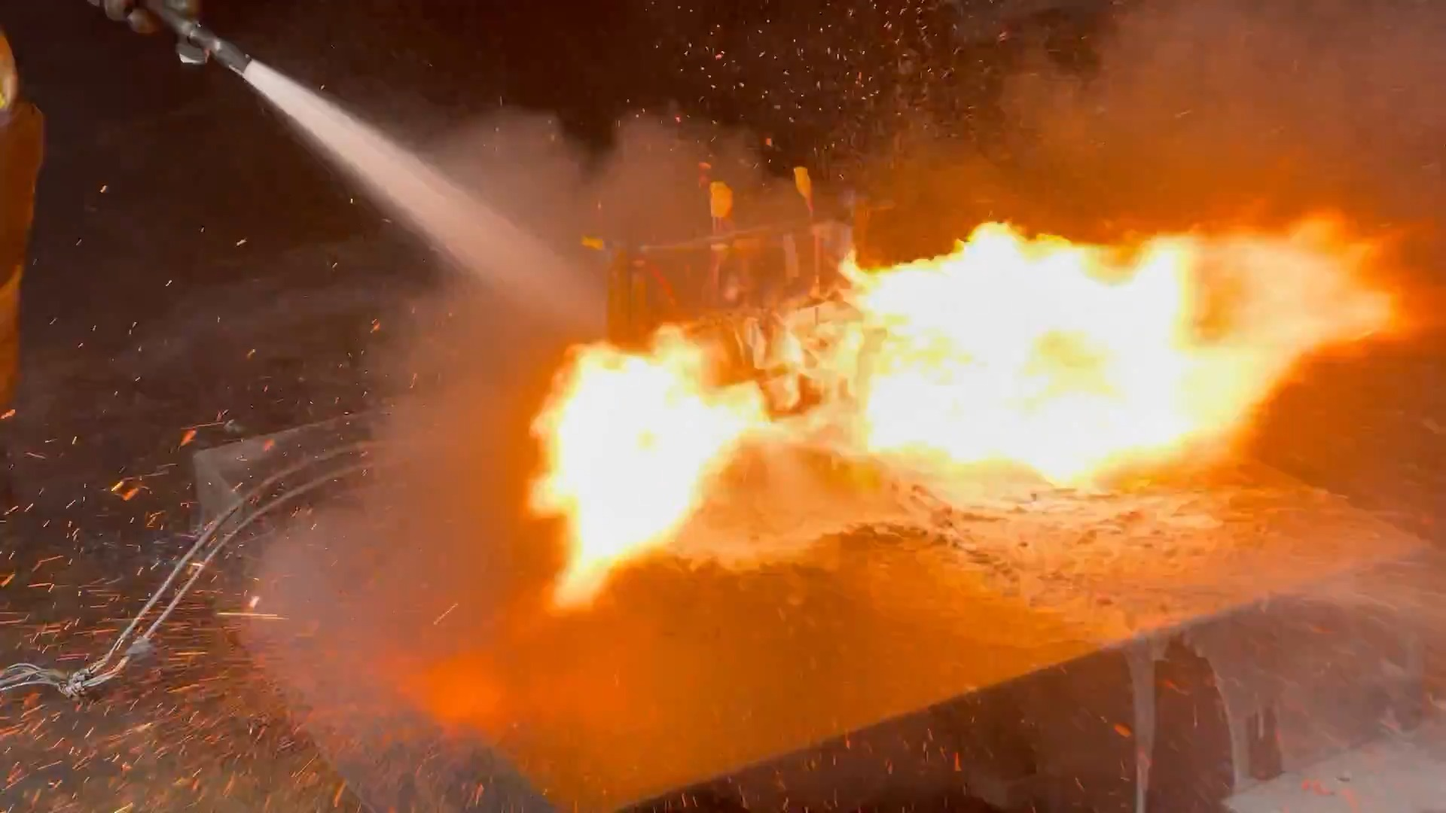fire: (523, 207, 1443, 612)
smoke: (967, 1, 1445, 224)
